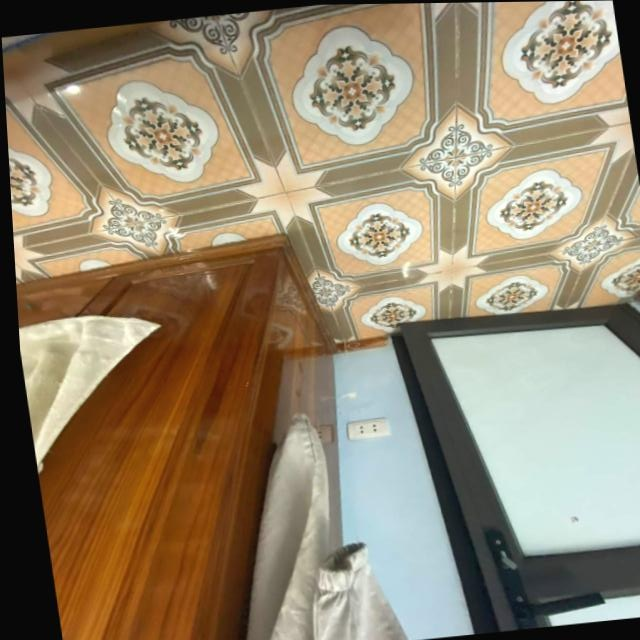outlet: (345, 416, 392, 441)
